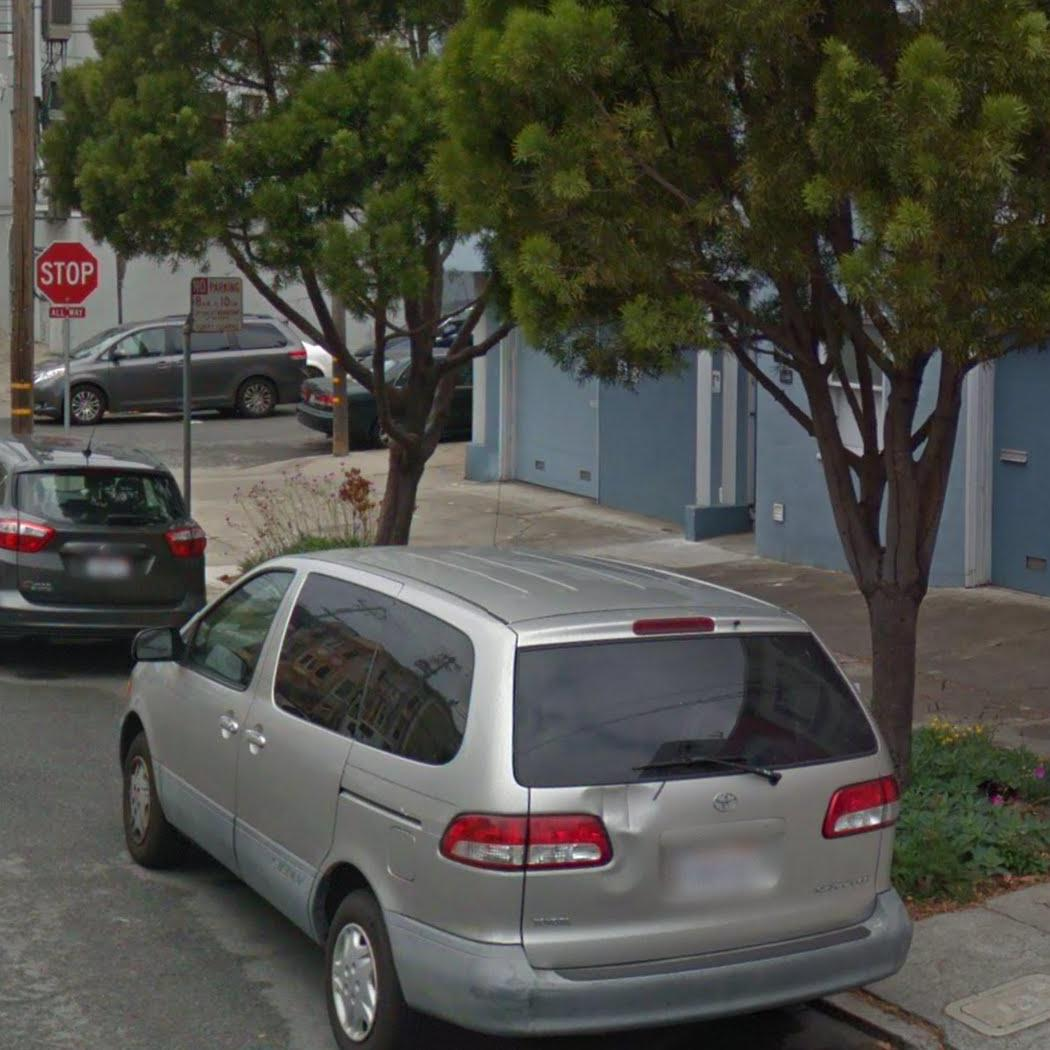No Parking: (185, 271, 250, 338)
